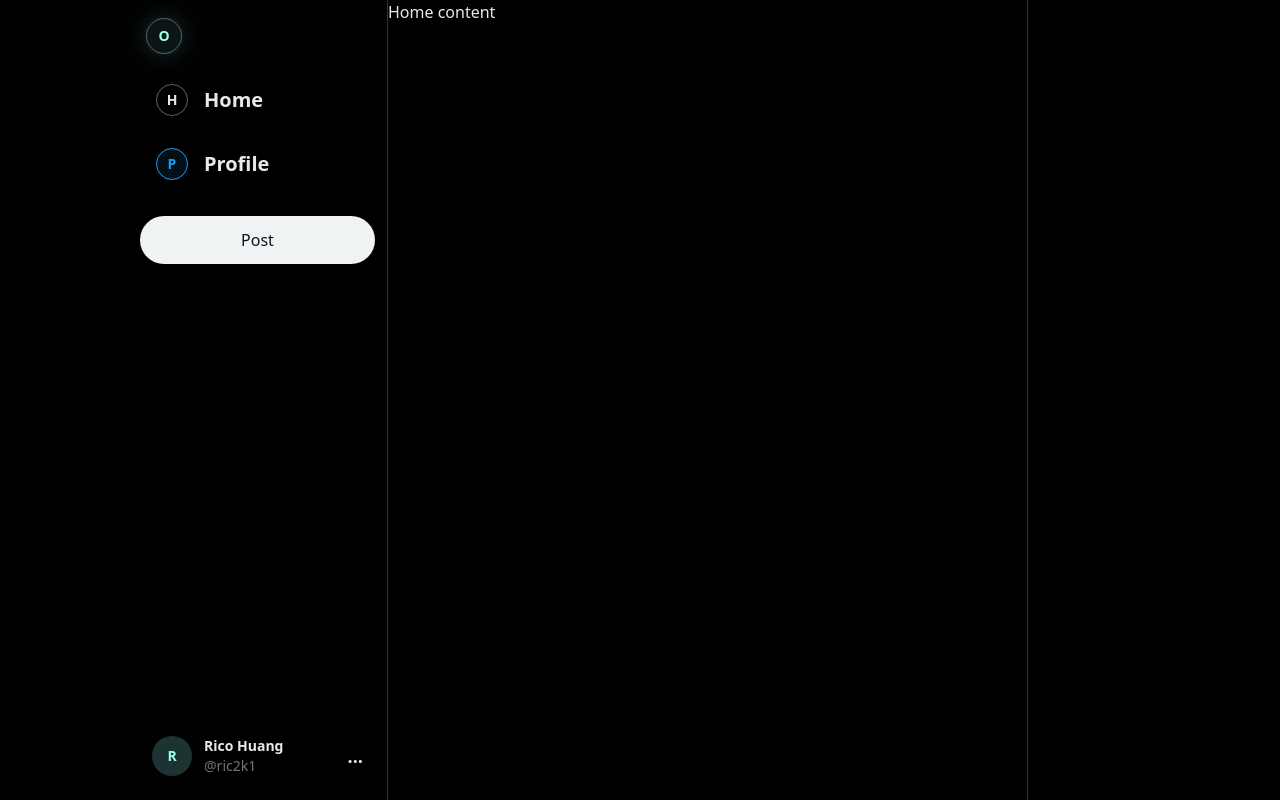
it: AppShell › opens the working post composer
Click the button "Post": (258, 240) [140, 216, 375, 264]
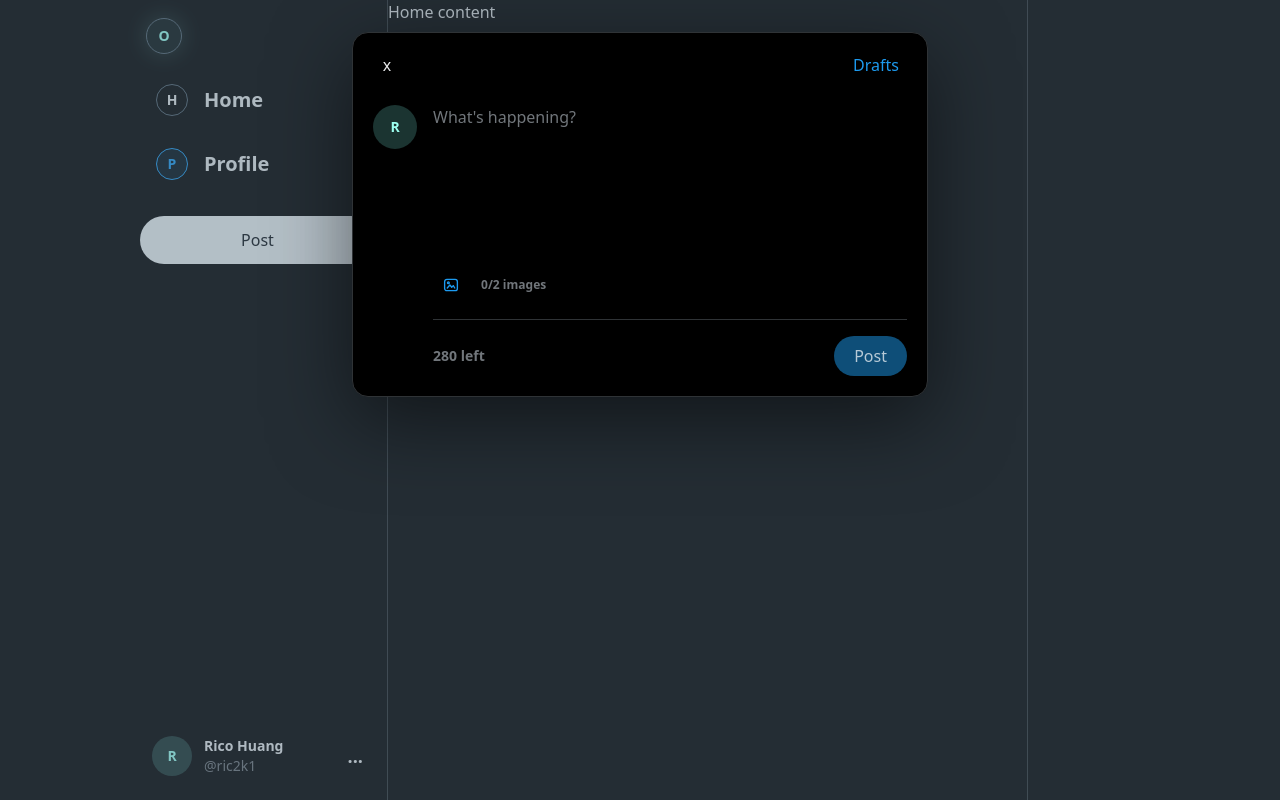
Now the dialog named "New post" is shown
Now the text box named "Post text" is shown, box [433, 105, 907, 249]
